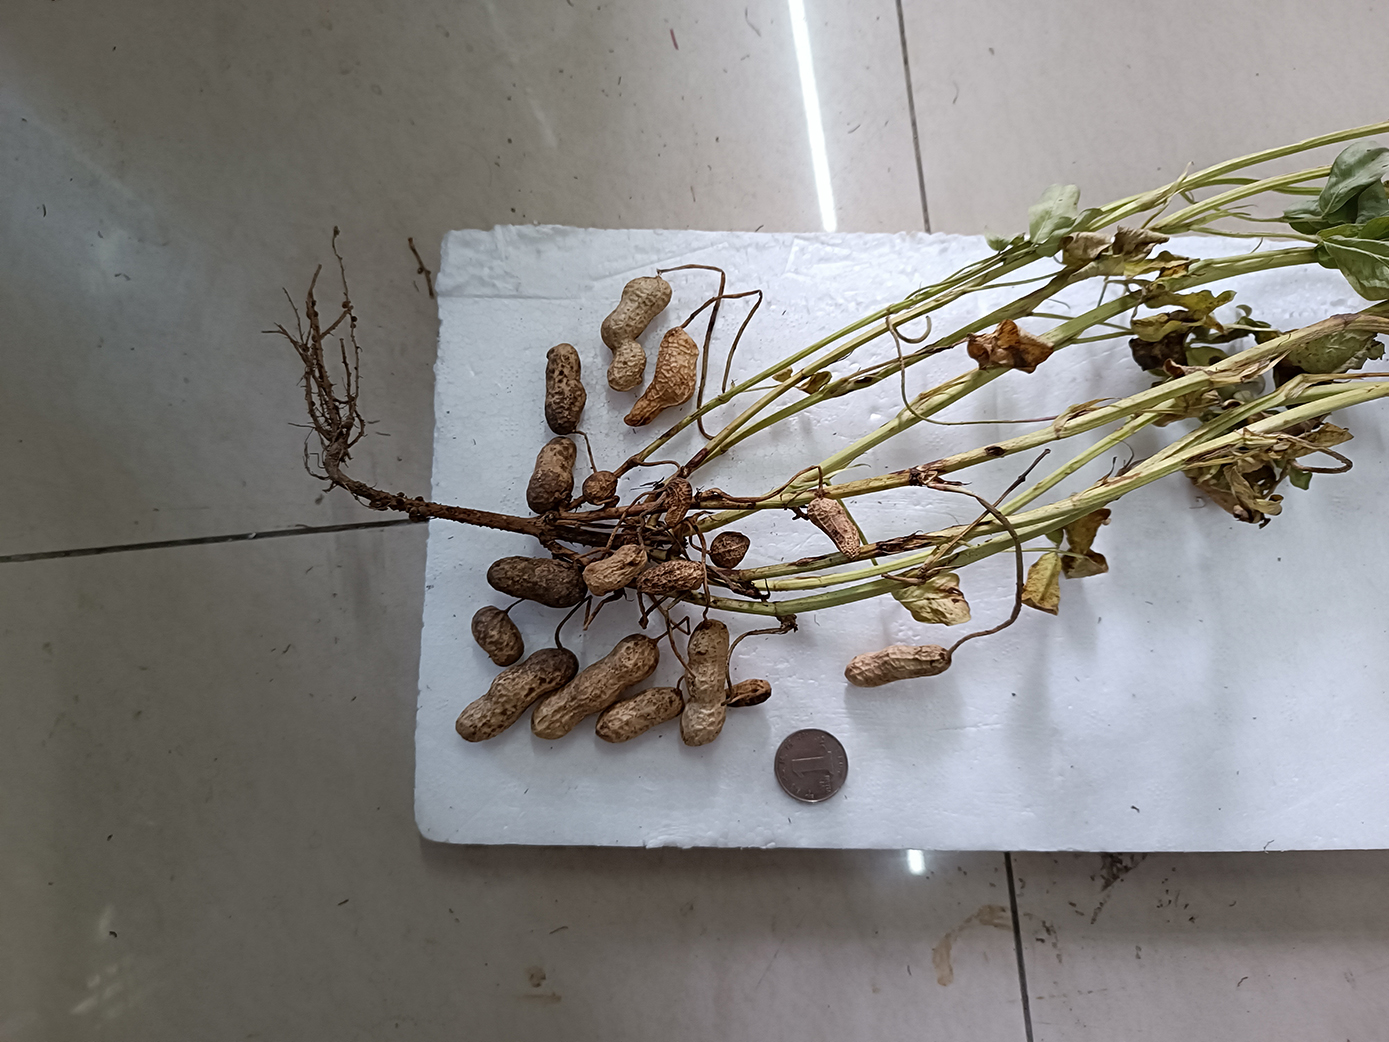h: (530, 634, 659, 739), (456, 648, 580, 742), (600, 276, 672, 392), (623, 328, 701, 426), (682, 621, 729, 746), (595, 687, 684, 745), (844, 645, 950, 688), (525, 435, 577, 516), (544, 343, 584, 436), (809, 497, 863, 561), (471, 606, 524, 665), (583, 545, 649, 592), (638, 561, 706, 593), (663, 478, 693, 529), (724, 679, 772, 707), (583, 471, 617, 503)
l: (486, 556, 589, 607), (711, 532, 749, 568)
